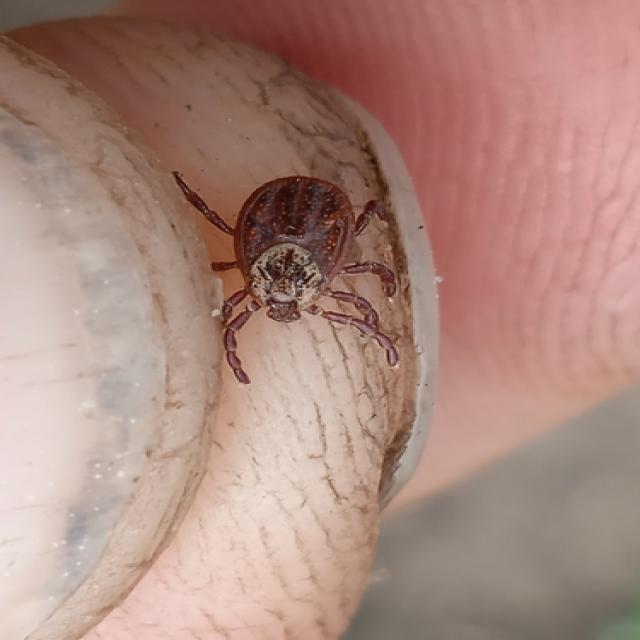Dermacentor Reticulatus-F: (172, 170, 398, 384)
